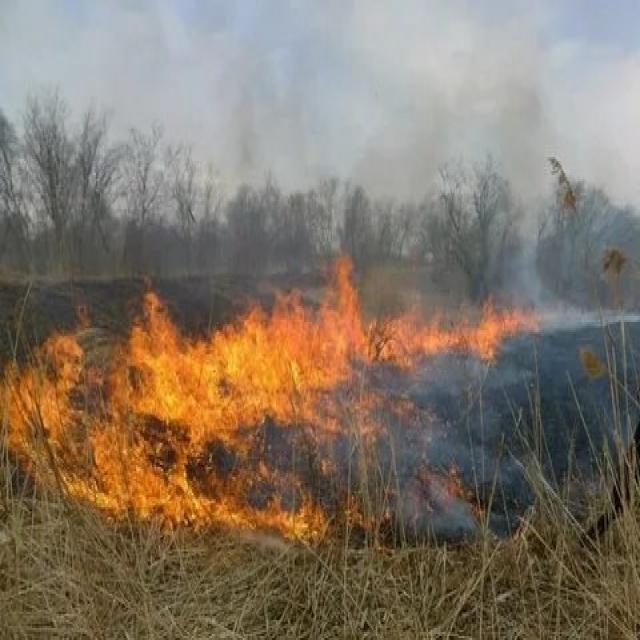Fire: (14, 228, 511, 560)
